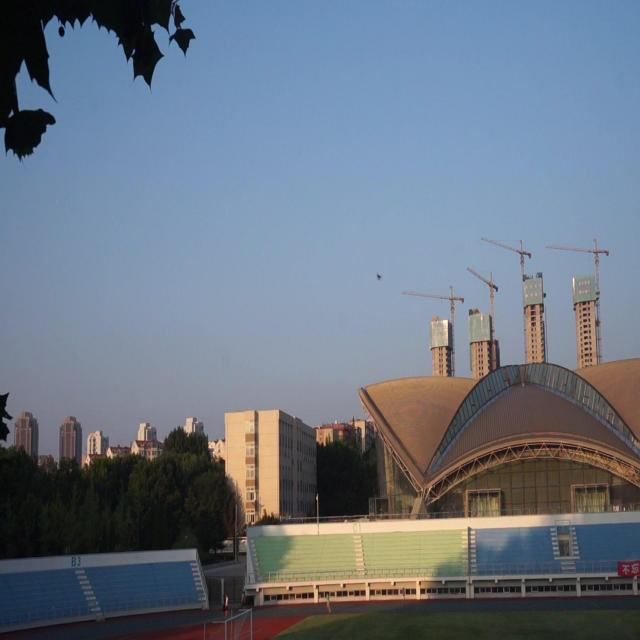UAV: (376, 272, 384, 282)
